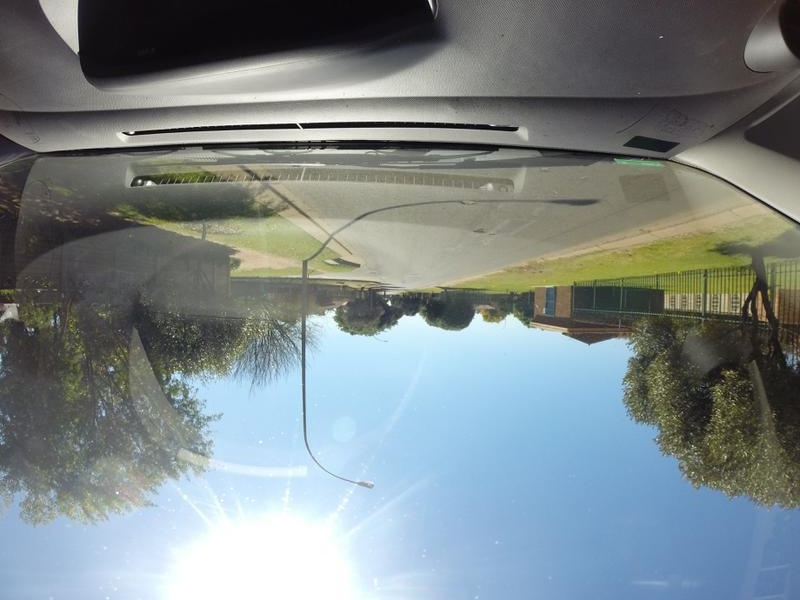pothole: (475, 222, 492, 235), (458, 196, 478, 207)
